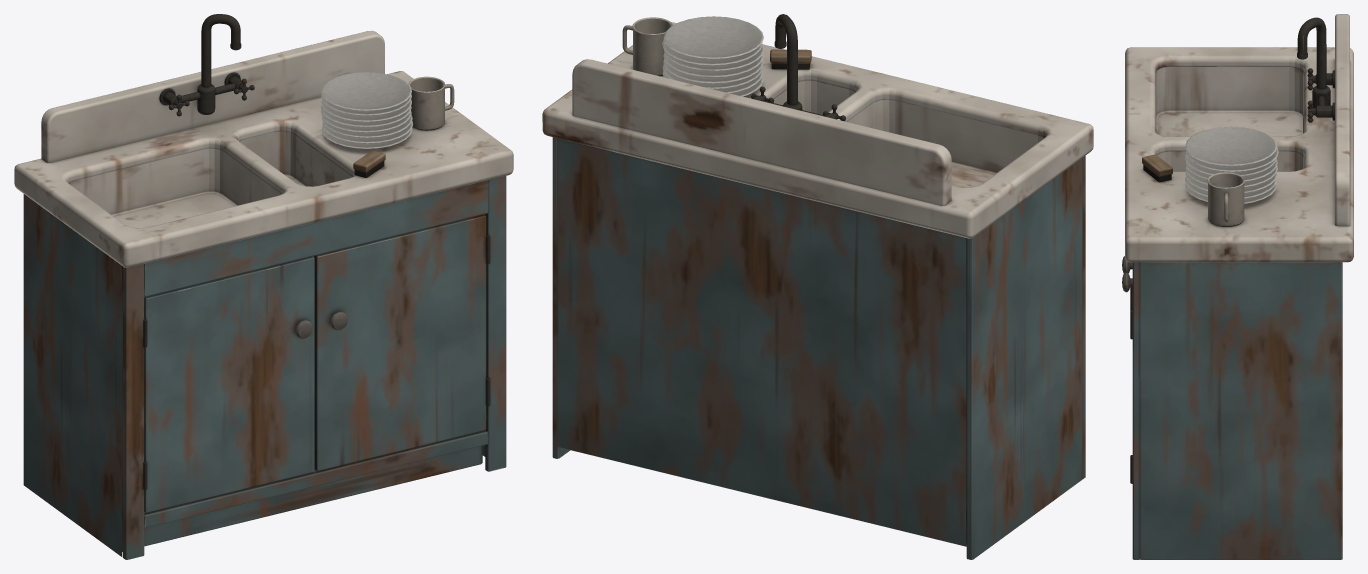
File: sink.glb
3 renders of one model, left to right at view 1: azimuth 30°, elevation 25°; view 2: azimuth 150°, elevation 25°; view 3: azimuth 270°, elevation 25°, orthographic. The views are drawn at different scales.
Visible parts, largest first — view 1: Body, Door_R, Door_L; view 2: Body; view 3: Body, Door_R.
Part boxes in pixels (bbox=[...]): Body: bbox=[14, 14, 513, 559]; Door_R: bbox=[314, 214, 490, 471]; Door_L: bbox=[143, 256, 314, 512]; Body: bbox=[542, 14, 1093, 559]; Body: bbox=[1125, 14, 1353, 559]; Door_R: bbox=[1122, 272, 1132, 483].
Size of the model in its own units: 1.2 by 1.28 by 0.608.
1 material, 1 textured.
